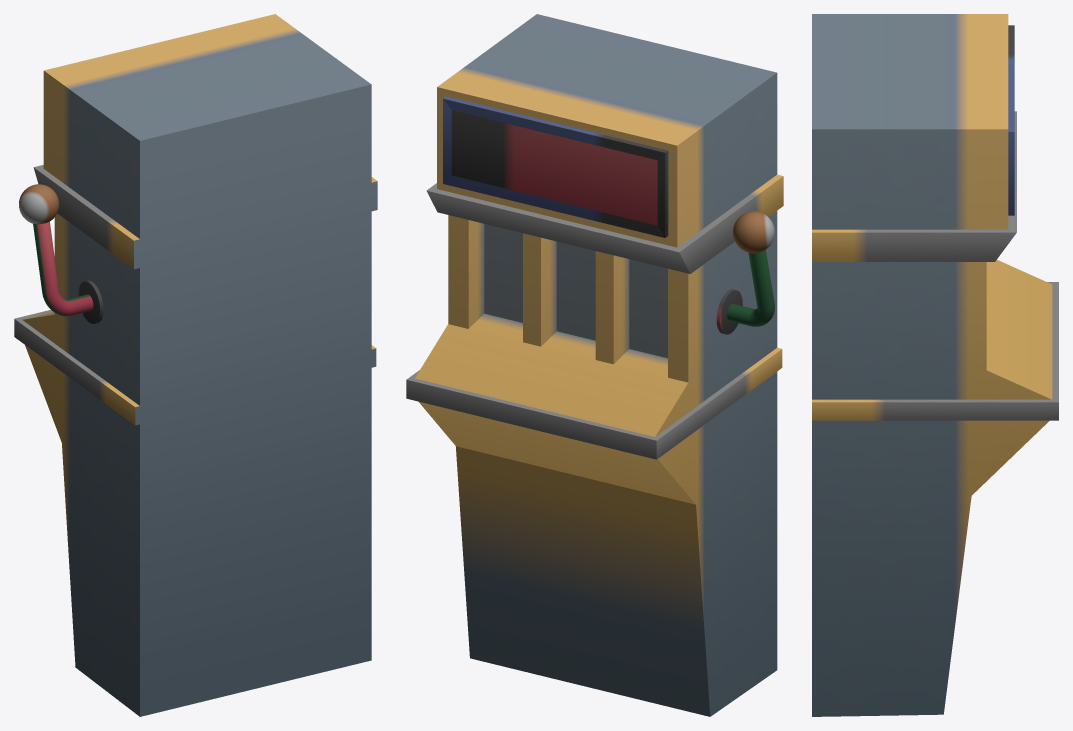
File: slot.fbx
3 views of the same model, side by side, from view 1: azimuth 30°, elevation 25°; view 2: azimuth 150°, elevation 25°; view 3: azimuth 270°, elevation 25° (orthographic). The views are drawn at different scales.
Visible parts, largest first — view 1: Screen; view 2: Screen; view 3: Screen.
Boxes of the visible parts, box(x1,y1,x2,y2) form: Screen: box(14, 14, 377, 716); Screen: box(406, 14, 783, 716); Screen: box(812, 14, 1058, 716).
Bounding box in the file's own units: 475 × 888 × 338.
